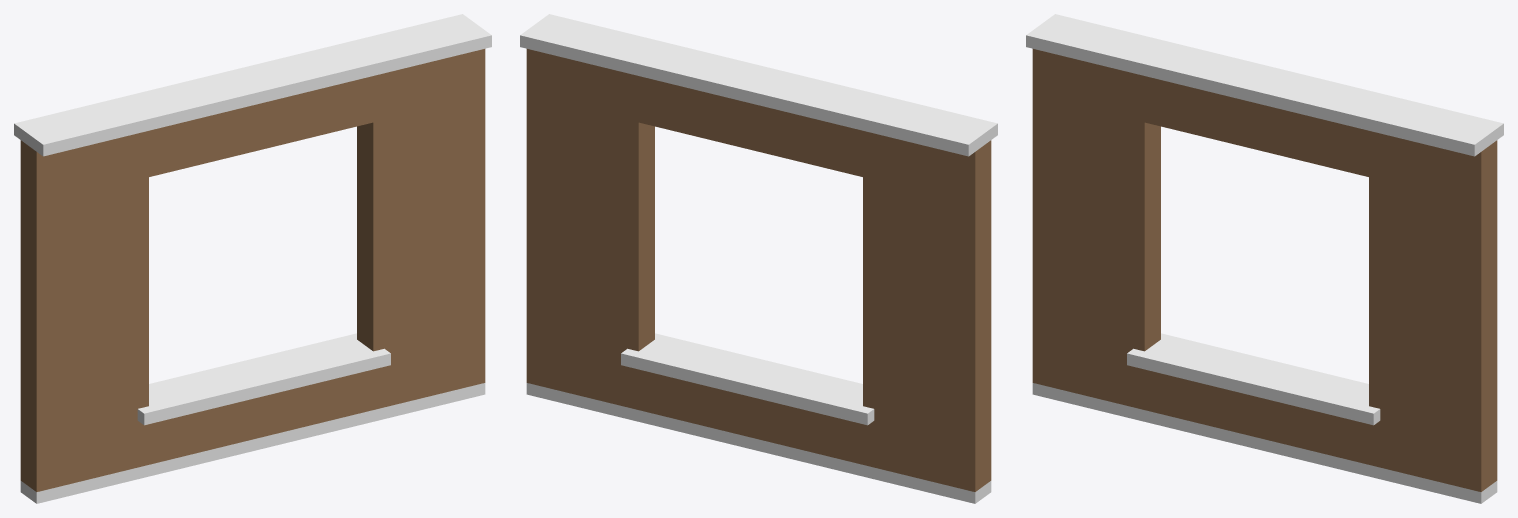
Rendered from SM_400x300_Window.fbx.
The picture shows the model from 3 angles, left to right: view 1: azimuth 30°, elevation 25°; view 2: azimuth 150°, elevation 25°; view 3: azimuth 330°, elevation 25°; orthographic projection.
Visible parts, largest first — view 1: SM_400x300_Window; view 2: SM_400x300_Window; view 3: SM_400x300_Window.
Boxes of the visible parts, <box> form: SM_400x300_Window: <box>14,14,491,503</box>; SM_400x300_Window: <box>520,14,997,503</box>; SM_400x300_Window: <box>1026,14,1503,503</box>.
Size of what is drawn, in the model's own units: 400 by 45 by 310.
